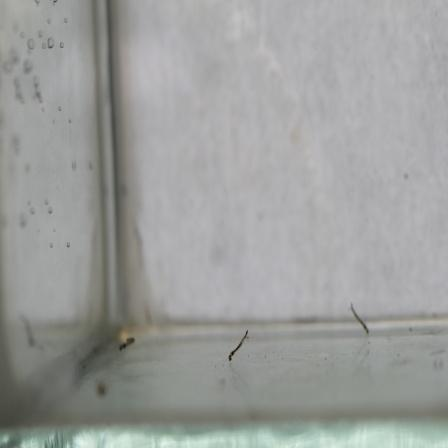Jentik-Nyamuk: (226, 328, 250, 367)
